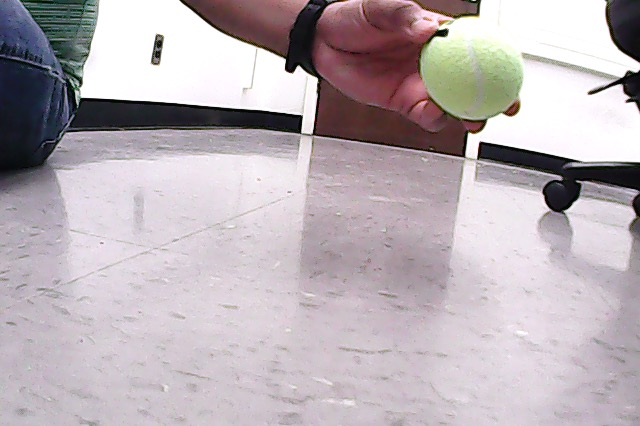ball: (420, 17, 524, 122)
